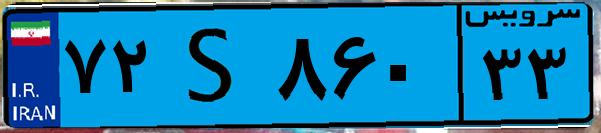0: (385, 28, 445, 110)
2: (110, 28, 158, 98)
3: (475, 38, 525, 113), (525, 38, 570, 115)
6: (330, 28, 385, 110)
7: (57, 26, 110, 100)
8: (270, 28, 330, 110)
S: (158, 12, 270, 120)
